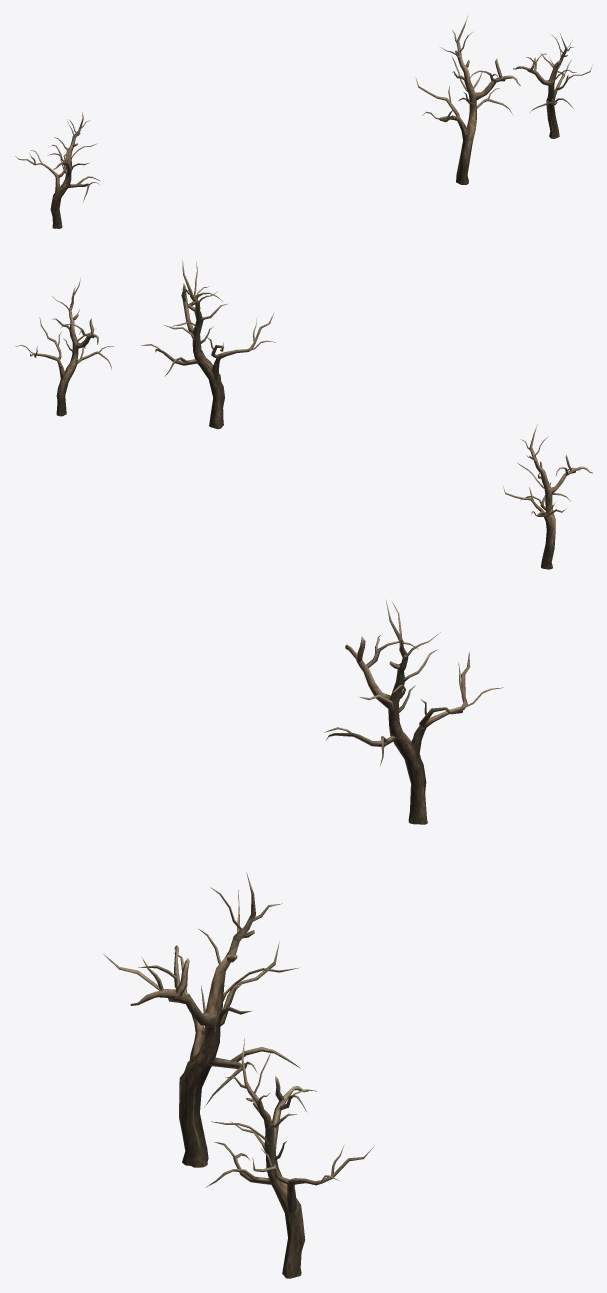
File: kushu04.fbx
3 renders of one model, top to bottom at view 1: azimuth 30°, elevation 25°; view 2: azimuth 150°, elevation 25°; view 3: azimuth 270°, elevation 25°, orthographic. The views are drawn at different scales.
Parts seen in each view (by area): view 1: kushu04; view 2: kushu04; view 3: kushu04.
Part boxes in pixels (box(x1,y1,x2,y2)): kushu04: box(15, 16, 592, 228); kushu04: box(15, 260, 592, 569); kushu04: box(103, 600, 502, 1278).
Size of the model in its own units: 4969 by 1398 by 1643.
Materials: 1 (1 with a texture image).
